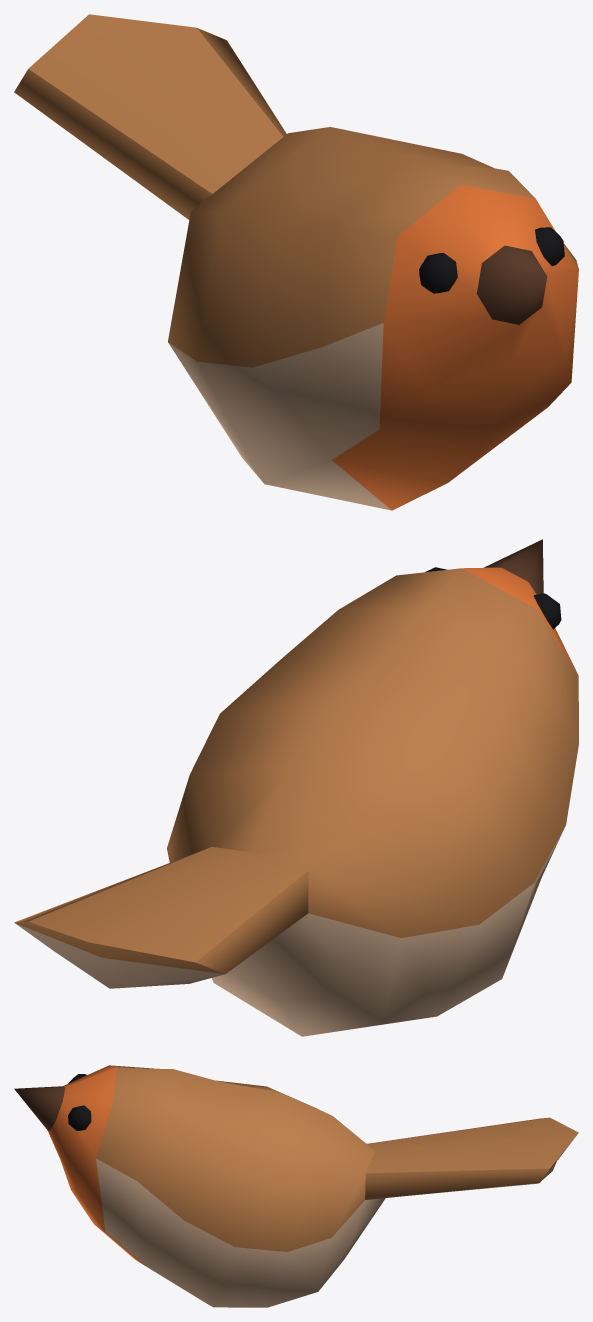
Rendered from Robin.fbx.
3 views of the same model, one above another, from view 1: azimuth 30°, elevation 25°; view 2: azimuth 150°, elevation 25°; view 3: azimuth 270°, elevation 25° (orthographic). The views are drawn at different scales.
Visible parts, largest first — view 1: Robin; view 2: Robin; view 3: Robin.
Part boxes in pixels (x1,y1,x2,y2): Robin: (14,14,578,510); Robin: (14,539,578,1036); Robin: (14,1065,578,1307).
Size of the model in its own units: 18.91 by 20.17 by 43.98.
1 material, 1 textured.
